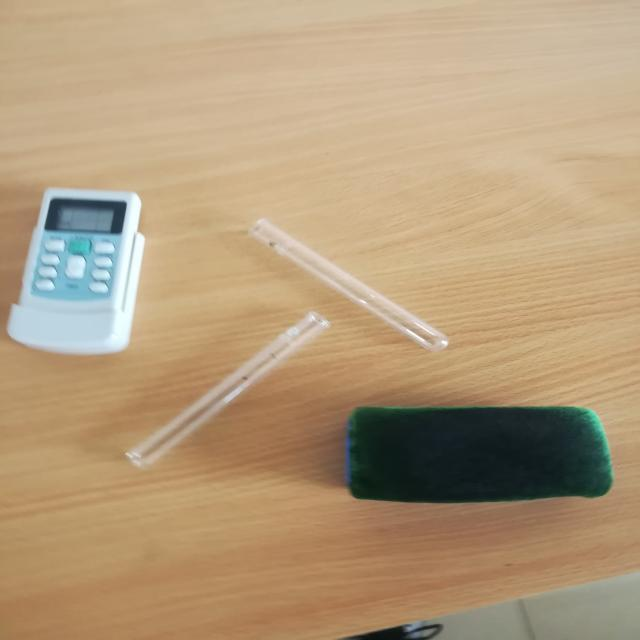Test_Tube: (105, 294, 334, 478), (227, 200, 463, 358)
